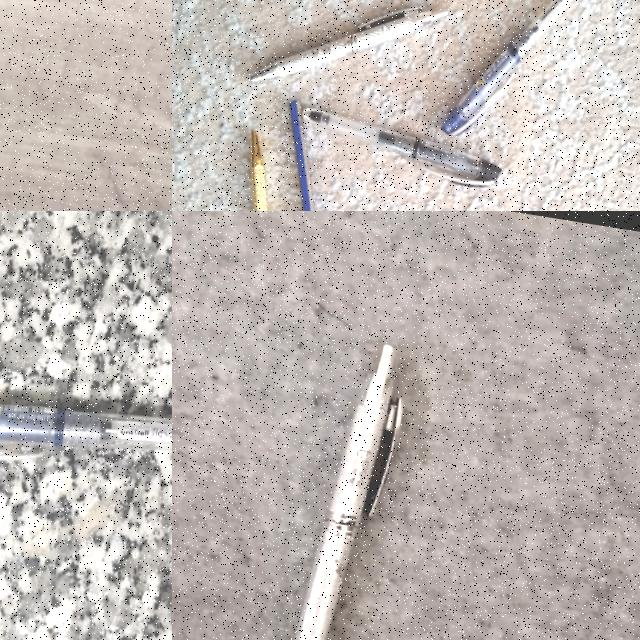pen: (441, 0, 603, 155), (294, 106, 503, 188), (0, 405, 171, 460)
pencil: (291, 100, 314, 211)
signature pen: (295, 346, 403, 639), (250, 0, 444, 110), (212, 132, 316, 211)
